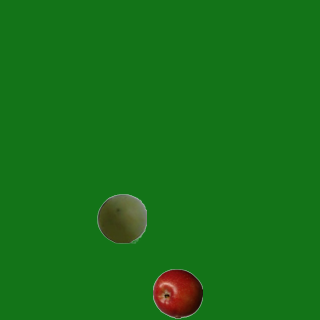Apple Braeburn: (152, 268, 202, 318)
Grape White 4: (96, 193, 146, 243)
